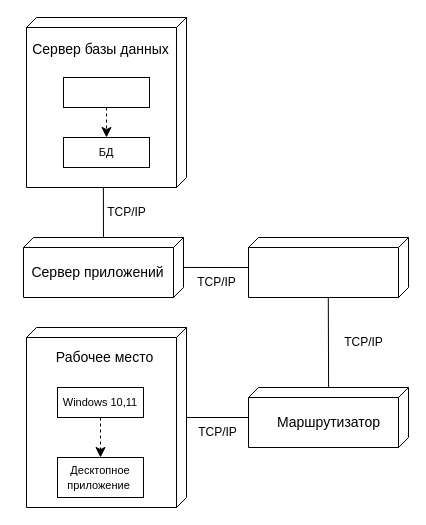
Some shapes in this 426 by 525 pixel diagram are drawn without their labels. Here are the shapes that lost their labels. From the top down, the box of each, then its label:
(62, 76, 150, 108): СУБД
(248, 236, 408, 298): Региональная сеть
